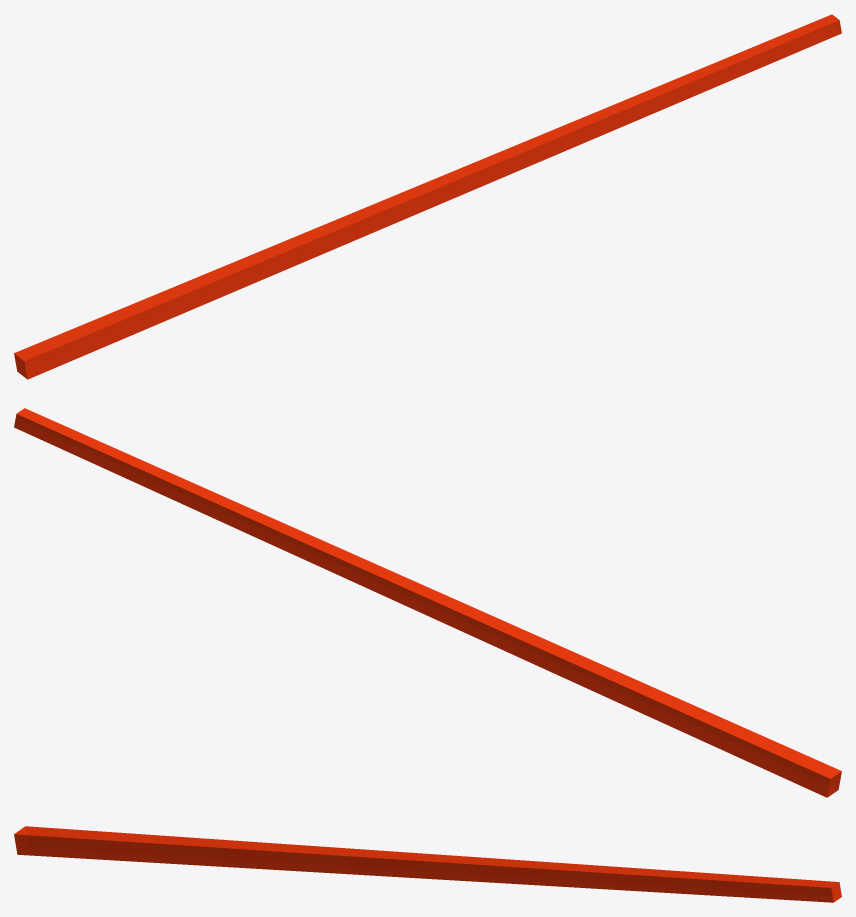
File: Event_421127236_EErechit_31.fbx
3 views of the same model, one above another, from view 1: azimuth 30°, elevation 25°; view 2: azimuth 150°, elevation 25°; view 3: azimuth 330°, elevation 25° (orthographic). The views are drawn at different scales.
Visible parts, largest first — view 1: Model; view 2: Model; view 3: Model.
Part boxes in pixels (<box>): Model: <box>14,14,841,379</box>; Model: <box>14,408,841,797</box>; Model: <box>14,826,841,902</box>.
Size of the model in its own units: 4.35 by 0.8744 by 0.1832.
